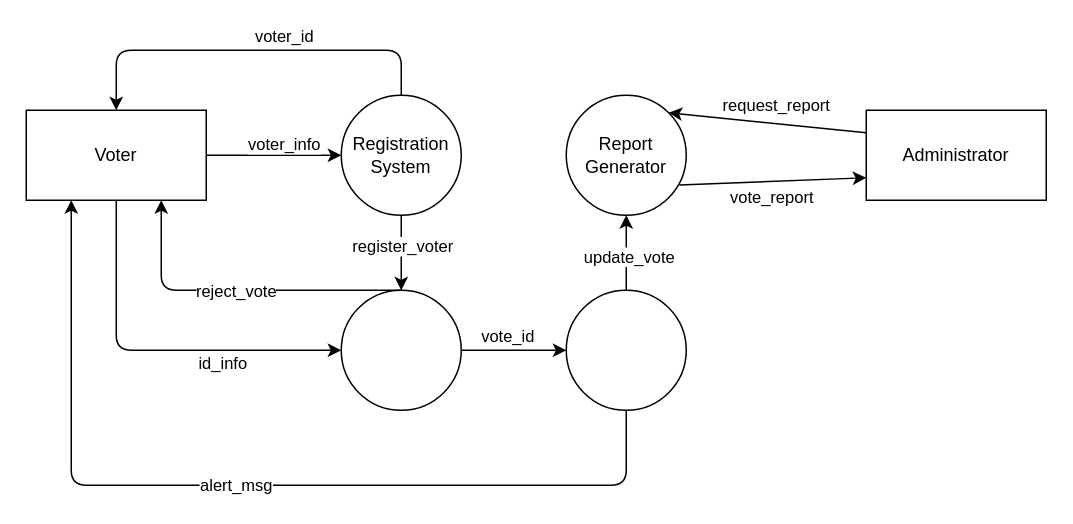
Image size: 1073x524. Some labels were removed from this diagram. Each missing label, with the centre of its shape:
"Authenticator" belongs at point 400,349.
"Vote Casting System" belongs at point 625,349.
